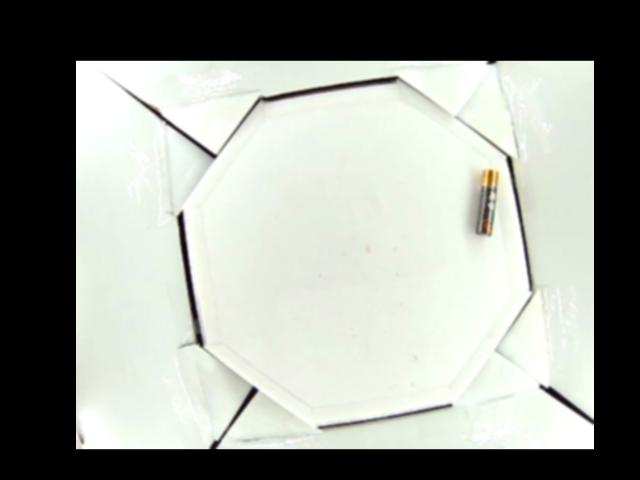Battery: (474, 169, 501, 238)
